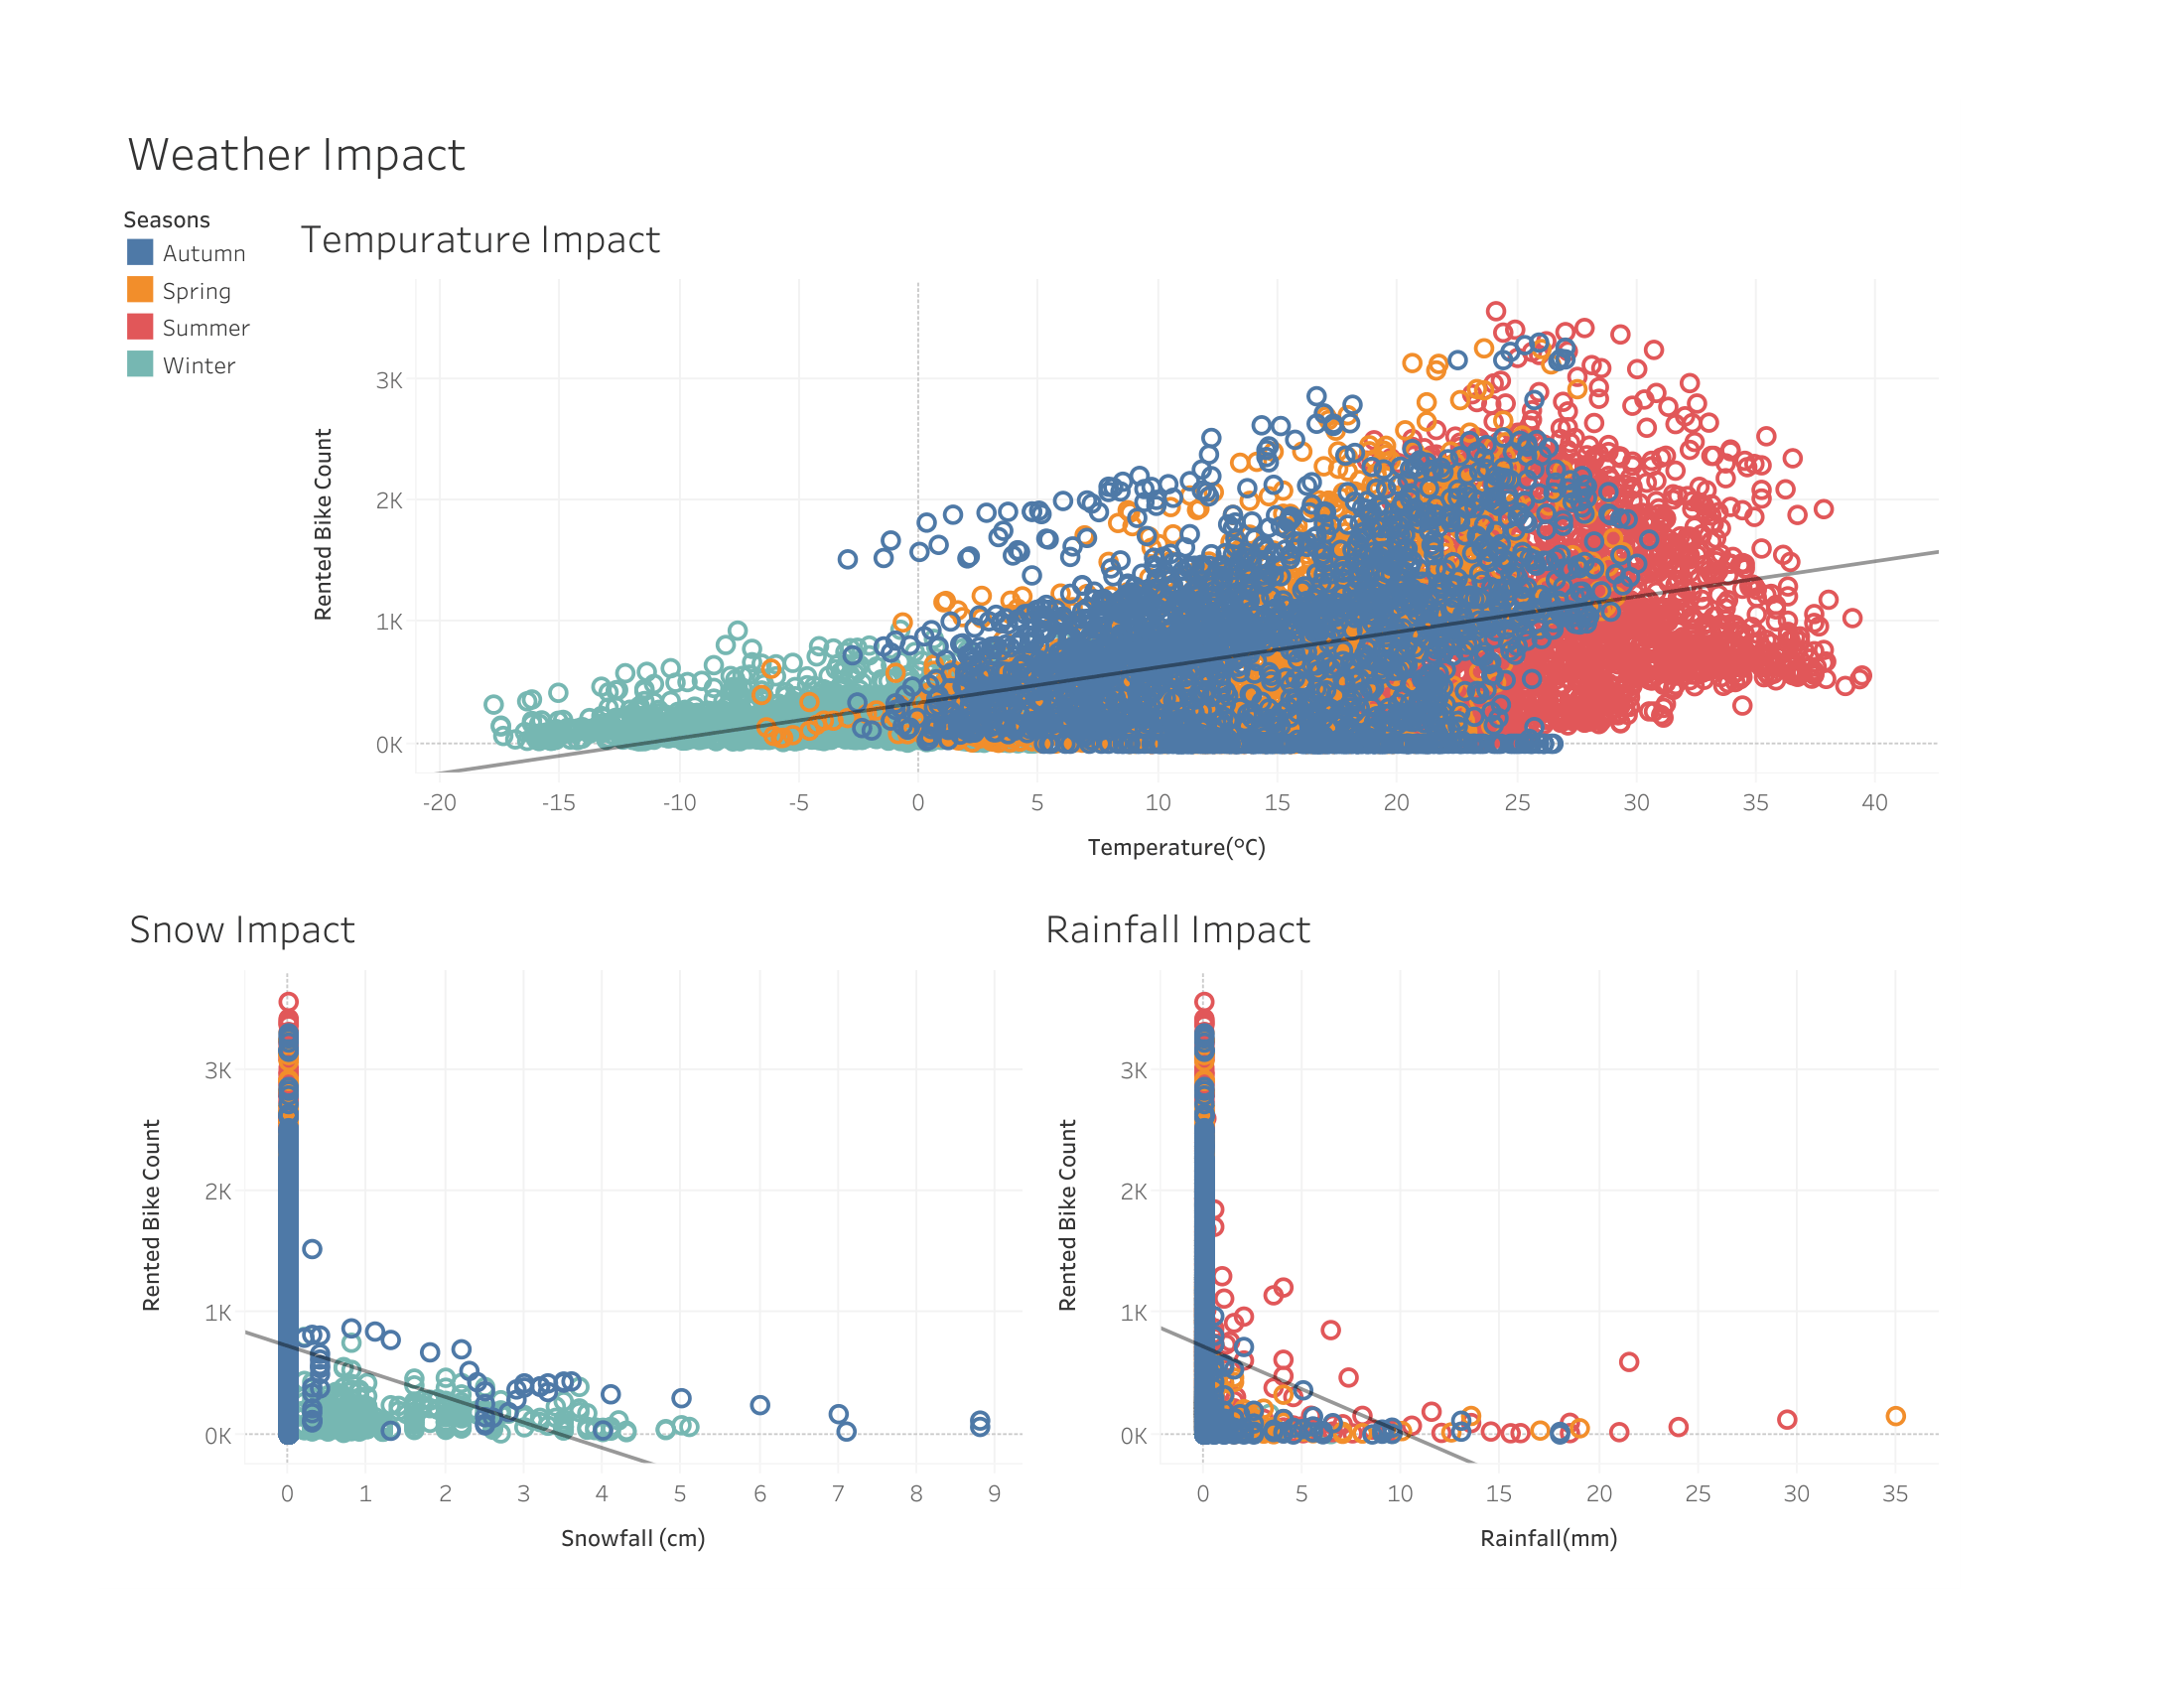

This screenshot's page, from the dashboard's own definition file:
{"tool":"tableau","page":{"name":"Weather Impact","canvas":[1000,800],"ordinal":2},"visuals":[{"type":"title","box":[8,8,984,42]},{"type":"legend","title":"Tempurature Impact","param":"[federated.12ww3qo0isxxog0zsqagf0s2lzdp].[none:Seasons:nk]","box":[8,50,92,106]},{"type":"worksheet","title":"Tempurature Impact","mark":"Automatic","rows":["Rented Bike Count"],"cols":["Temperature(°C)"],"box":[100,50,892,371]},{"type":"worksheet","title":"Snow Impact","mark":"Automatic","rows":["Rented Bike Count"],"cols":["Snowfall (cm)"],"box":[8,421,492,371]},{"type":"worksheet","title":"Rainfall Impact","mark":"Automatic","rows":["Rented Bike Count"],"cols":["Rainfall(mm)"],"box":[500,421,492,371]}]}

Visuals, with their boxes on the page's 1000x800 design canvas (x1, y1, x2, y2). These are canvas units, not pixel positions in the 2184x1688 screenshot, which may show the page scaled, cropped or inside an application window:
title: pyautogui.locateOnScreen(8, 8, 992, 50)
"Tempurature Impact" legend: pyautogui.locateOnScreen(8, 50, 100, 156)
"Tempurature Impact" worksheet: pyautogui.locateOnScreen(100, 50, 992, 421)
"Snow Impact" worksheet: pyautogui.locateOnScreen(8, 421, 500, 792)
"Rainfall Impact" worksheet: pyautogui.locateOnScreen(500, 421, 992, 792)
